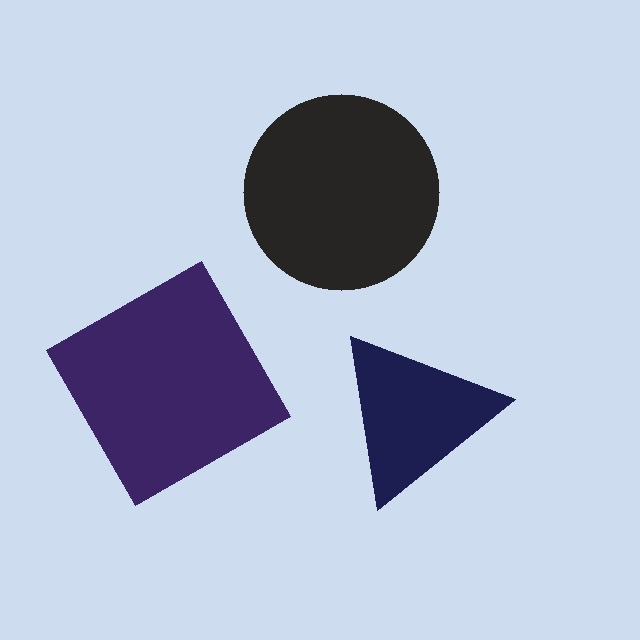circle: (243, 94, 440, 290)
square: (46, 260, 290, 505)
triangle: (349, 335, 515, 510)
